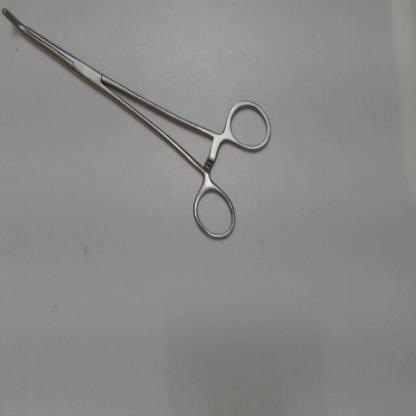Lahey Forceps: (2, 2, 274, 245)
